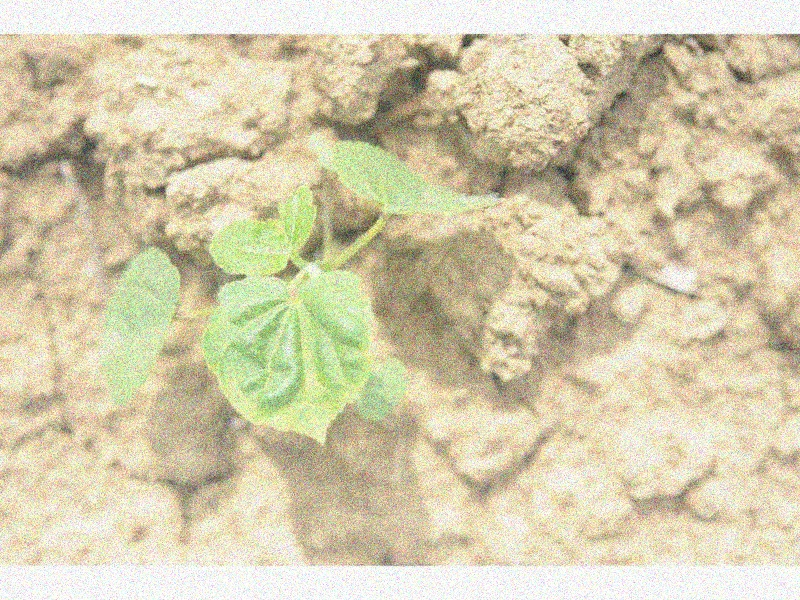velvet: (97, 138, 505, 447)
